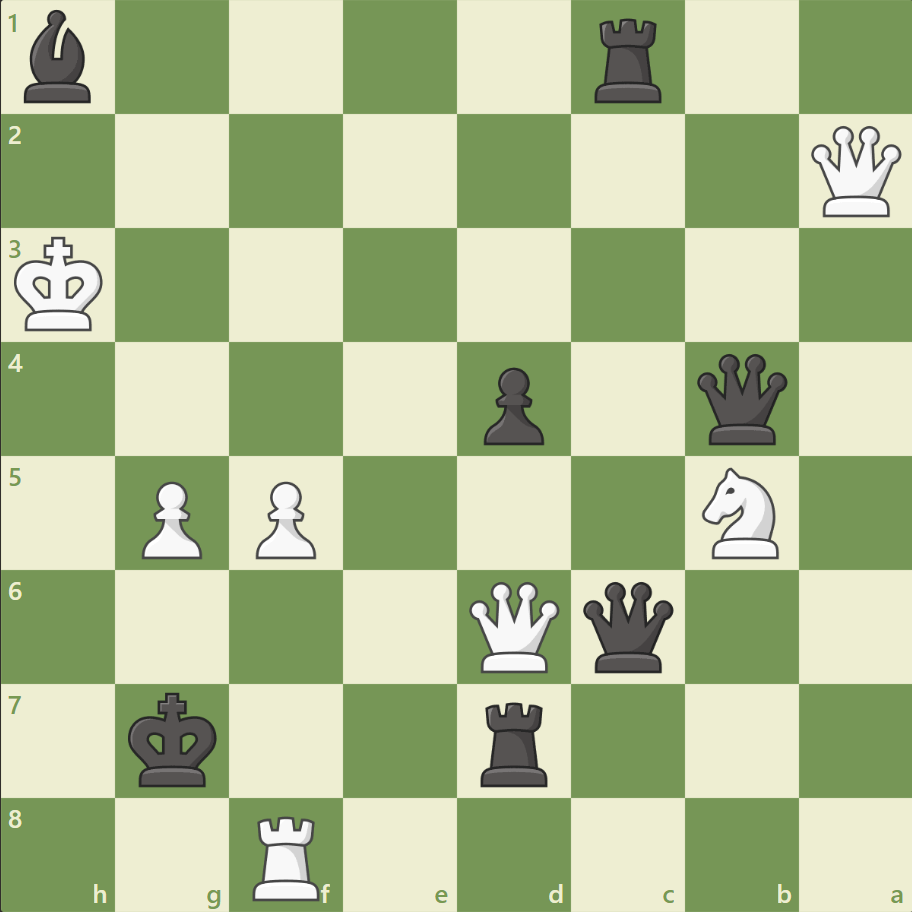K: (11, 231, 111, 339)
N: (692, 461, 789, 564)
P: (247, 473, 322, 564), (133, 473, 208, 564)
Q: (464, 576, 563, 676), (805, 122, 904, 222)
R: (246, 806, 329, 904)
b: (17, 6, 101, 109)
k: (124, 685, 224, 793)
p: (474, 359, 549, 450)
q: (578, 576, 677, 676), (691, 349, 790, 449)
r: (473, 693, 556, 790), (587, 12, 670, 109)
